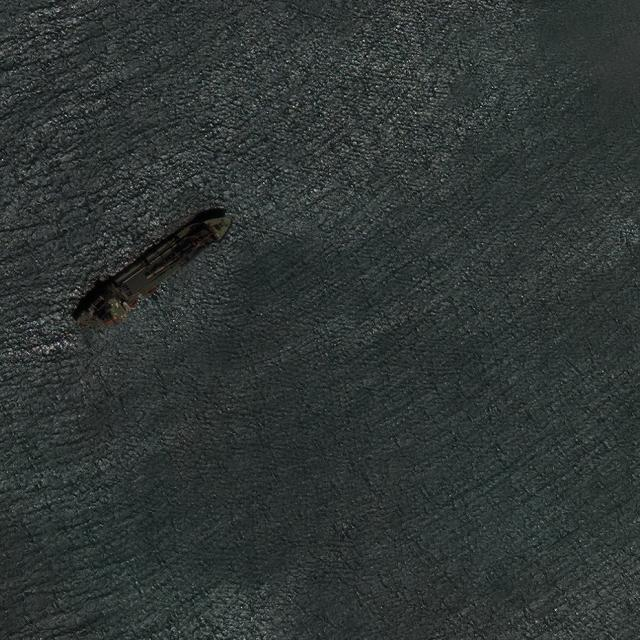Oil Tanker: (59, 200, 242, 343)
